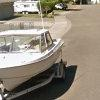Boat: (1, 21, 70, 94)
